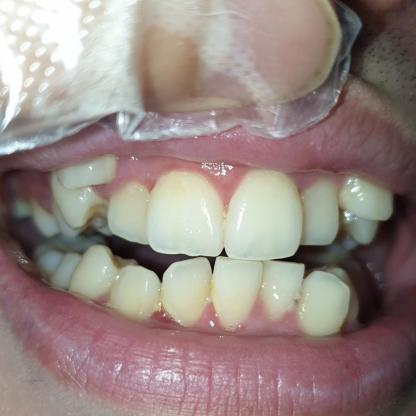Crowding: (257, 258, 361, 338)
